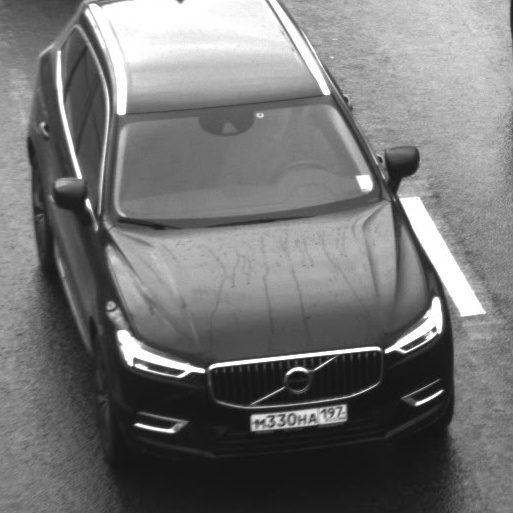plate: (238, 391, 359, 437)
